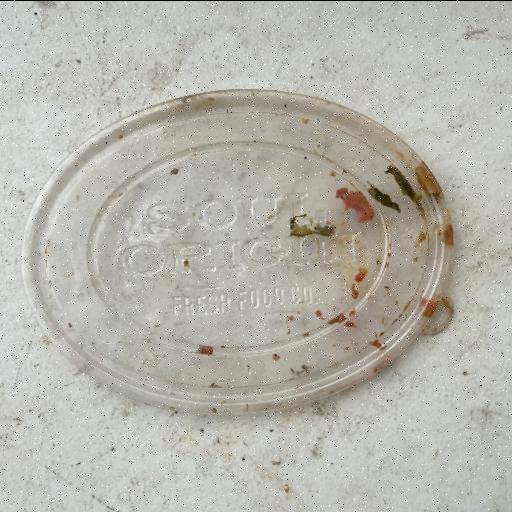Plastic: (20, 86, 456, 417)
